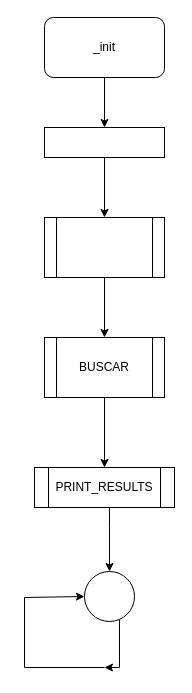
Some shapes in this 192 by 693 pixel diagram are drawn without their labels. The shapes that lost their labels are listed below. From the top down, each one's box as (x1, y1, x2, y2) in pixels, then its label:
(44, 126, 164, 158): SP <-$3DFF
(44, 216, 164, 278): LEER_CANT
